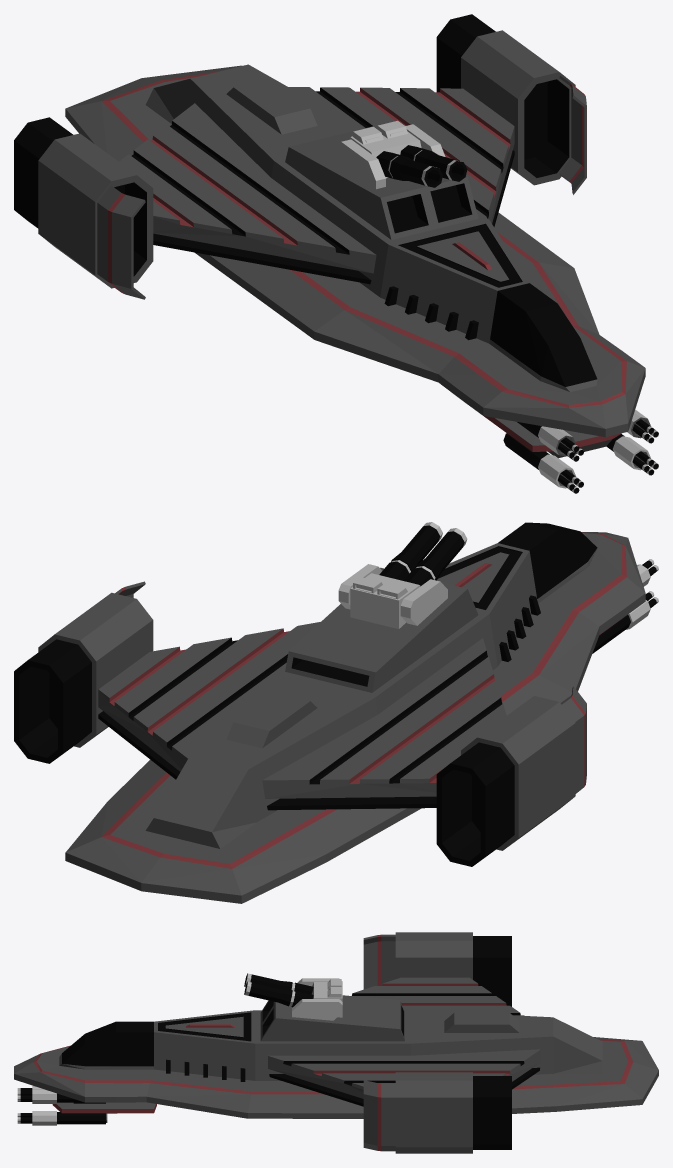
The model's file is Spaceship13_2.fbx.
The picture shows the model from 3 angles, top to bottom: view 1: azimuth 30°, elevation 25°; view 2: azimuth 150°, elevation 25°; view 3: azimuth 270°, elevation 25°; orthographic projection. The views are drawn at different scales.
Visible parts, largest first — view 1: Spaceship13_2; view 2: Spaceship13_2; view 3: Spaceship13_2.
Boxes of the visible parts, box(x1,y1,x2,y2) form: Spaceship13_2: box(14, 14, 658, 493); Spaceship13_2: box(14, 522, 658, 903); Spaceship13_2: box(14, 932, 658, 1153).
Size of the model in its own units: 1974 by 783 by 3384.
